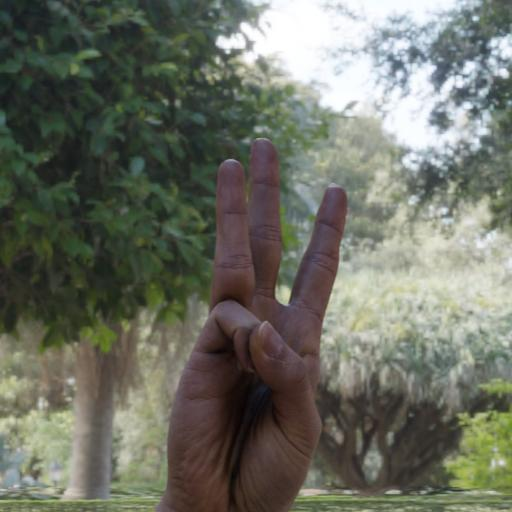W: (143, 125, 381, 509)
